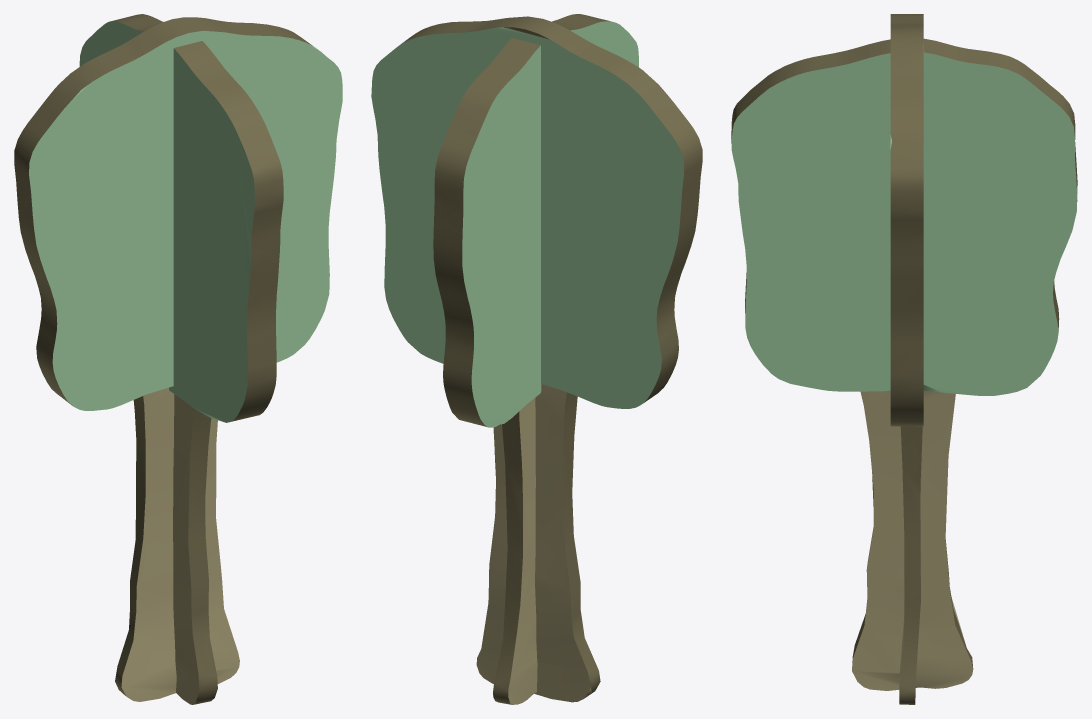
Rendered from TreeBackground.fbx.
3 renders of one model, left to right at view 1: azimuth 30°, elevation 25°; view 2: azimuth 150°, elevation 25°; view 3: azimuth 270°, elevation 25°, orthographic. The views are drawn at different scales.
Visible parts, largest first — view 1: TreeBackground; view 2: TreeBackground; view 3: TreeBackground.
Part boxes in pixels (x1,y1,x2,y2): TreeBackground: (14, 14, 342, 704); TreeBackground: (371, 14, 702, 704); TreeBackground: (731, 14, 1077, 704).
Size of the model in its own units: 53.72 by 109 by 52.34.
